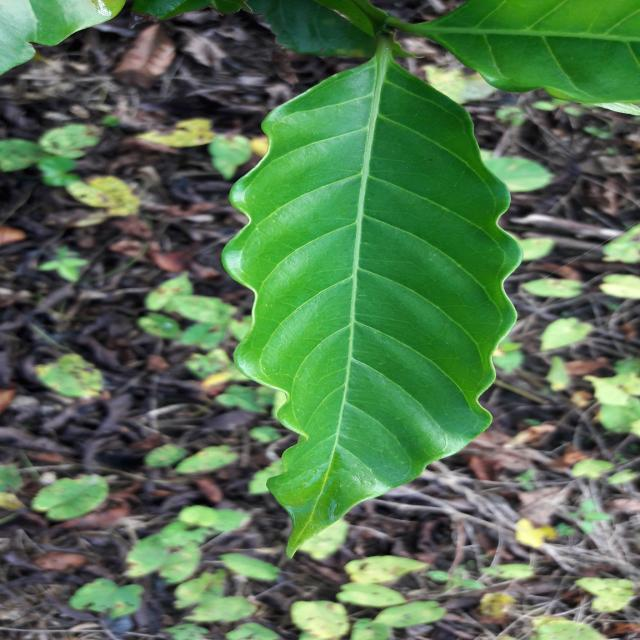Sanas: (219, 49, 524, 555)
